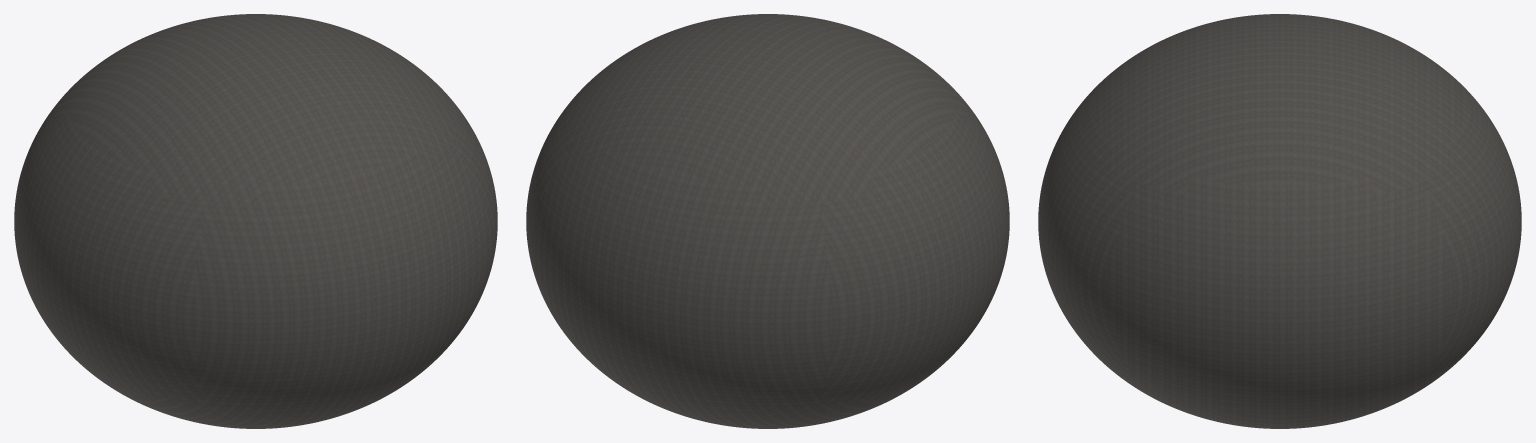
File: skybox.glb
3 views of the same model, side by side, from view 1: azimuth 30°, elevation 25°; view 2: azimuth 150°, elevation 25°; view 3: azimuth 270°, elevation 25° (orthographic).
Visible parts, largest first — view 1: skyboxBase; view 2: skyboxBase; view 3: skyboxBase.
Boxes of the visible parts, x1,y1,x2,y2 form: skyboxBase: [14, 14, 497, 428]; skyboxBase: [526, 14, 1009, 428]; skyboxBase: [1038, 14, 1521, 428].
Size of what is drawn, in the model's own units: 195 by 161 by 195.
Materials: 2 (2 with a texture image).
